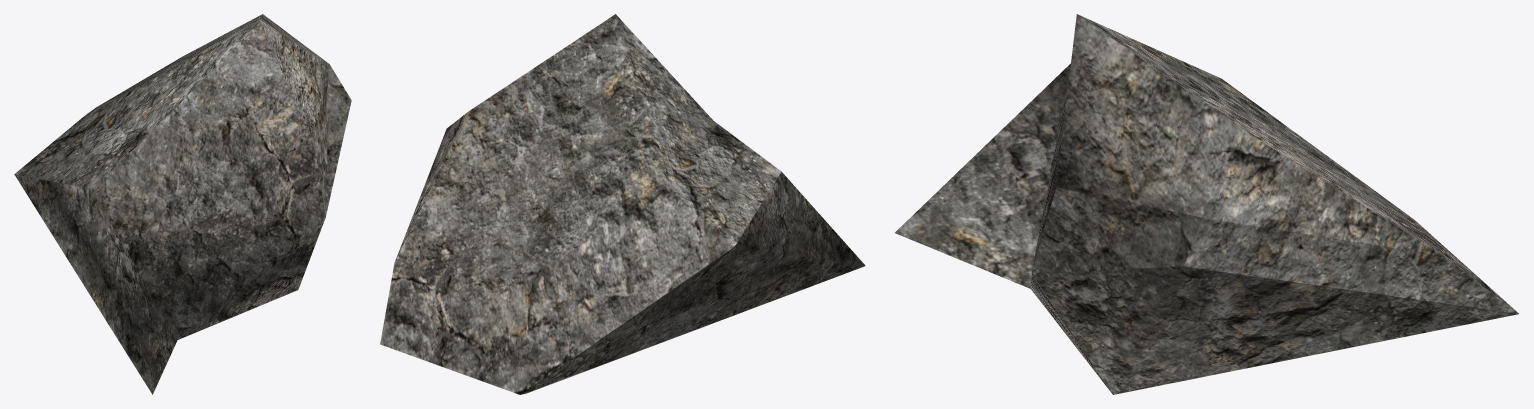
The model's file is rock2.fbx.
The picture shows the model from 3 angles, left to right: view 1: azimuth 30°, elevation 25°; view 2: azimuth 150°, elevation 25°; view 3: azimuth 270°, elevation 25°; orthographic projection. The views are drawn at different scales.
Visible parts, largest first — view 1: rock2:pSolid2; view 2: rock2:pSolid2; view 3: rock2:pSolid2.
Part boxes in pixels (<box>): rock2:pSolid2: <box>14,14,351,394</box>; rock2:pSolid2: <box>380,14,865,394</box>; rock2:pSolid2: <box>895,14,1518,394</box>.
Size of the model in its own units: 7.99 by 6.94 by 11.25.
1 material, 1 textured.
